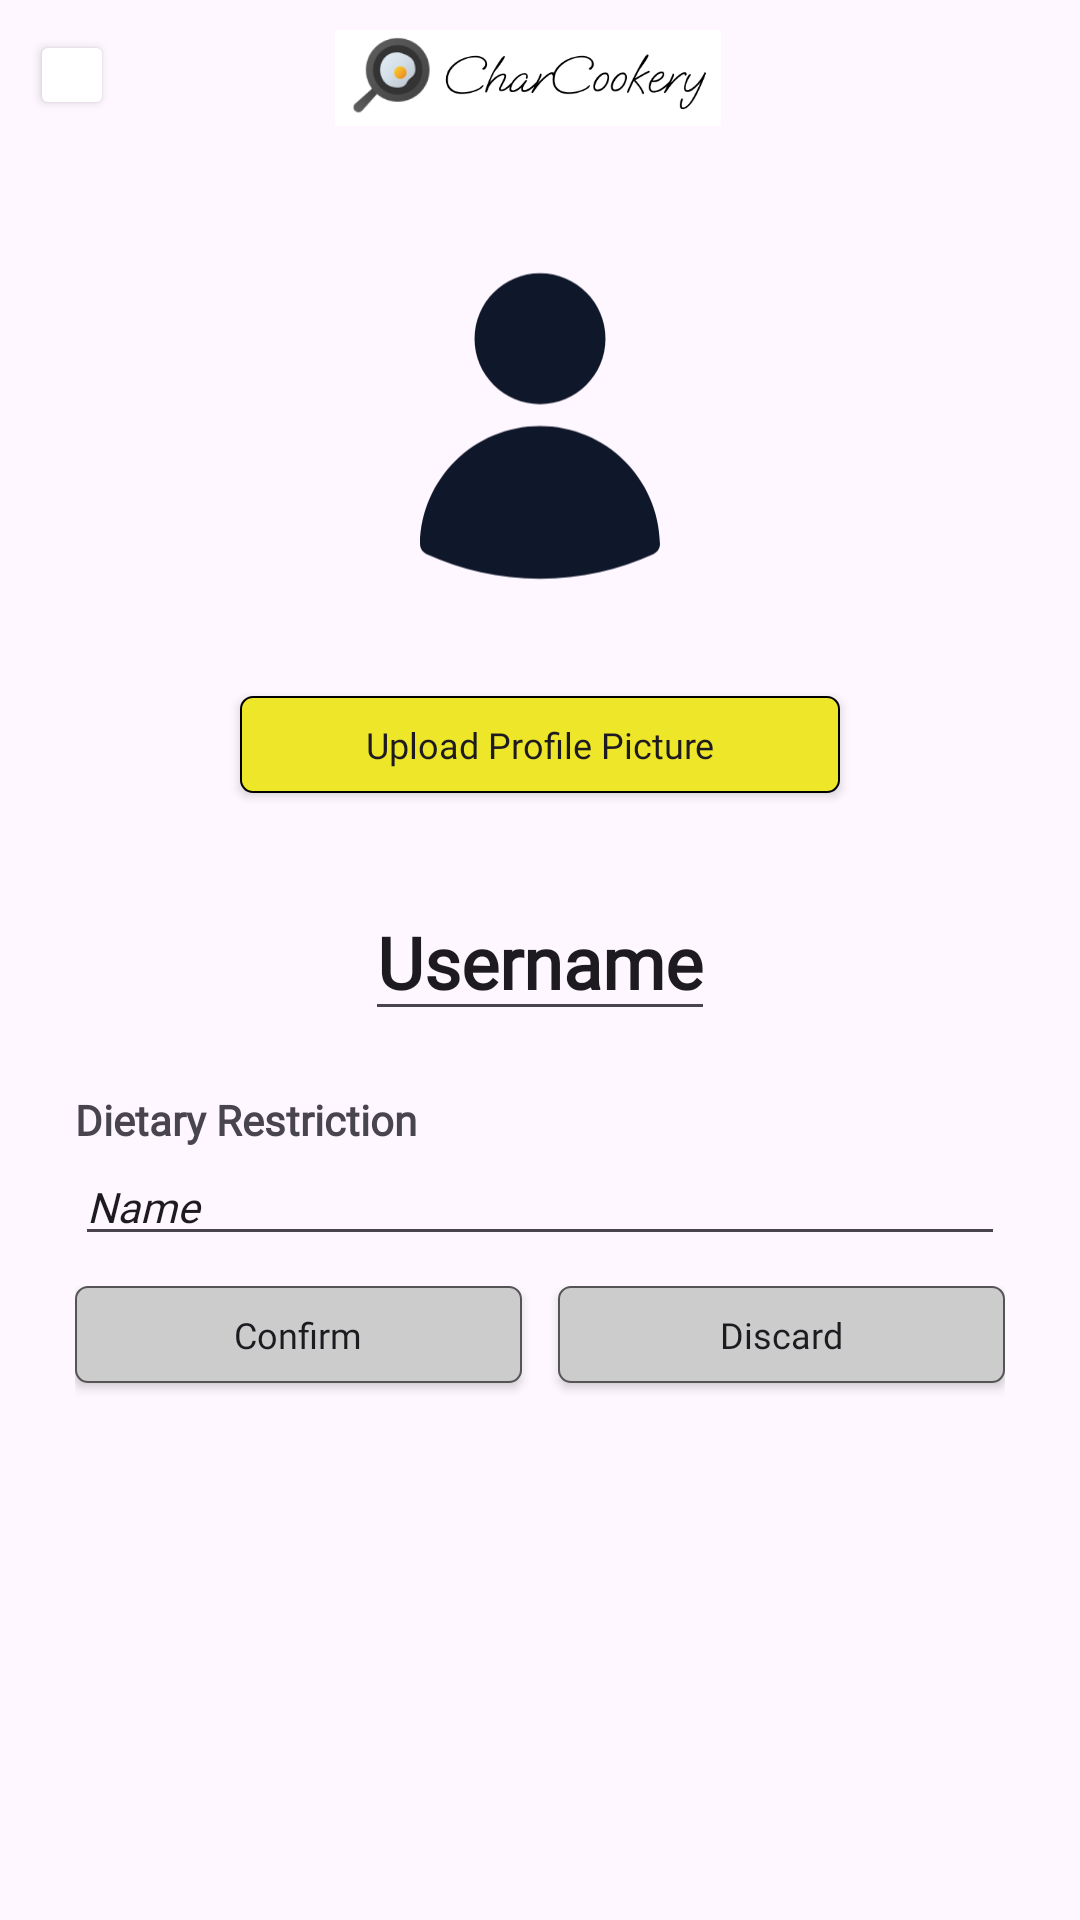

Named icons in this screenshot (1080 x 1920) and their bounding boxes, (x1, y1, x2, y2):
user: (420, 272, 660, 580)
